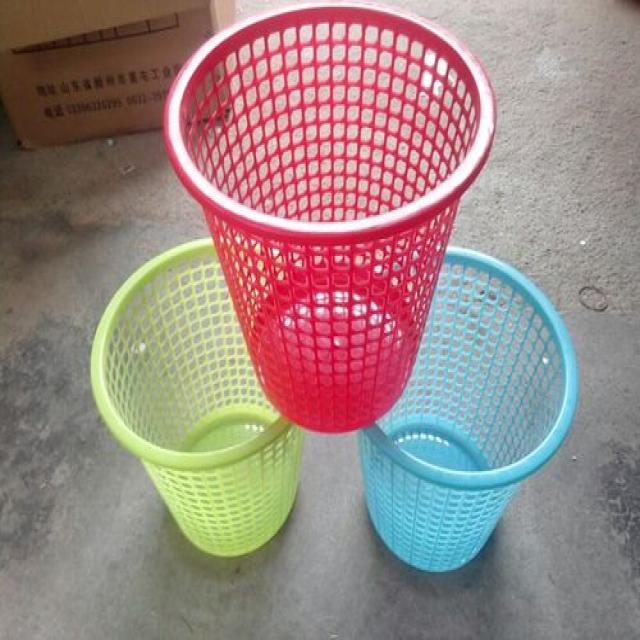dustbin: (160, 3, 497, 433), (358, 242, 586, 579), (84, 228, 310, 562)
